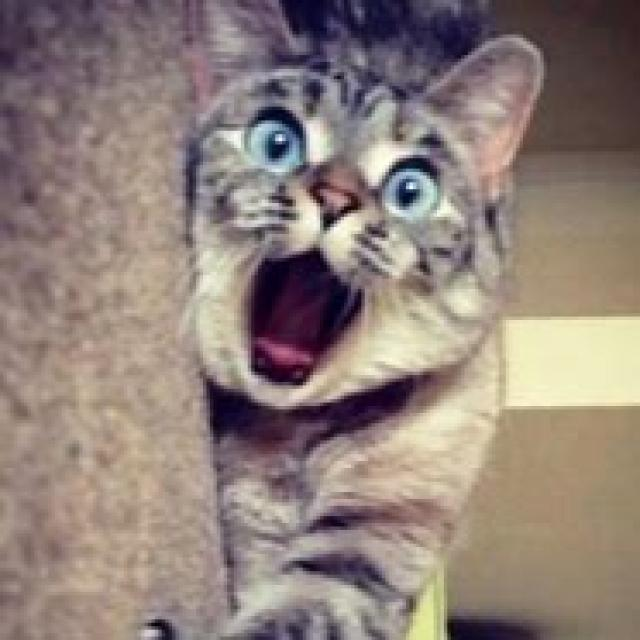Surprised: (208, 98, 447, 401)
